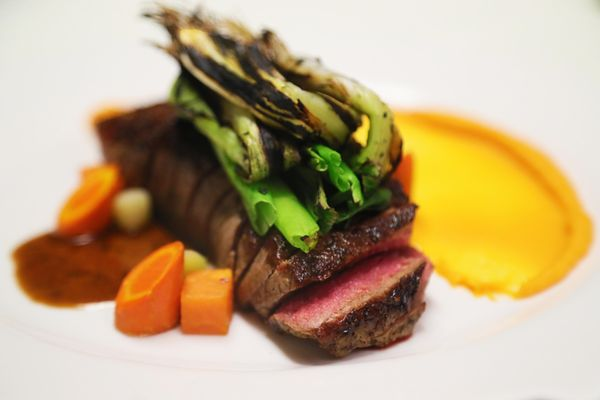soup: (116, 14, 434, 356)
